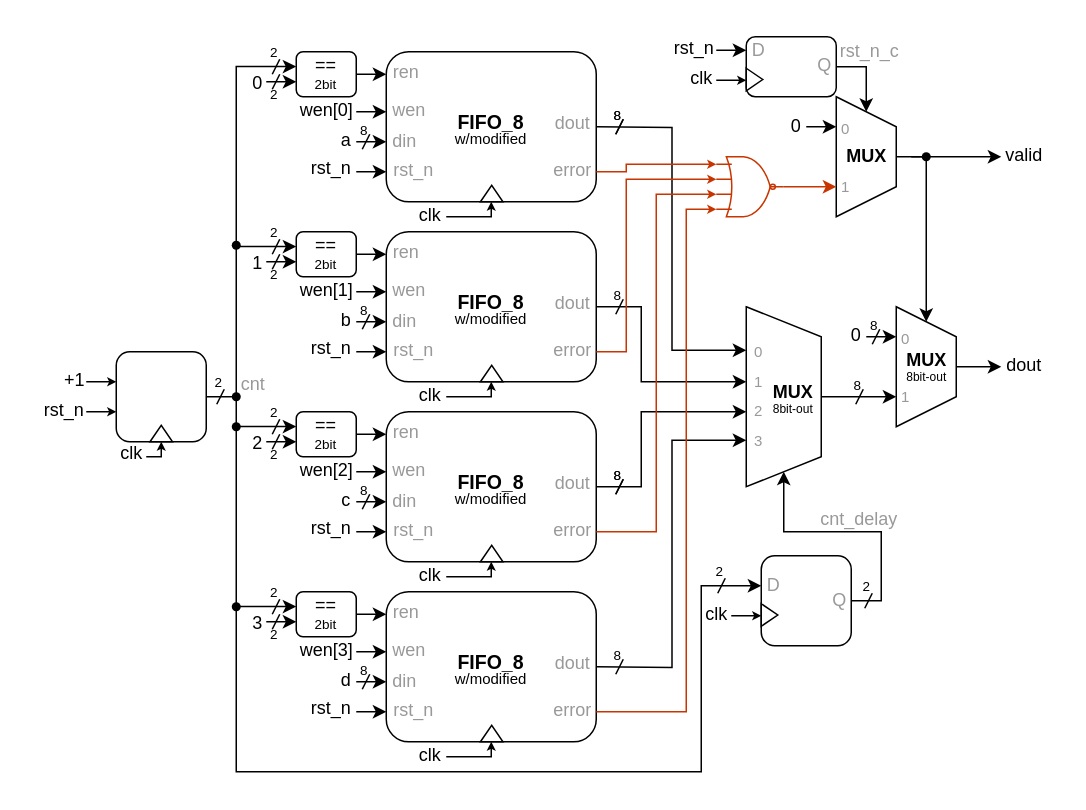
This 1086x810 diagram has some shape labels left out. The shapes that lost their labels are listed below. From the top down, each one's box as (x1, y1, x2, y2) in pixels, then its label:
(745, 35, 836, 97): DFF
(115, 350, 206, 442): Counter 2bit
(760, 554, 851, 646): DFF 2bit
